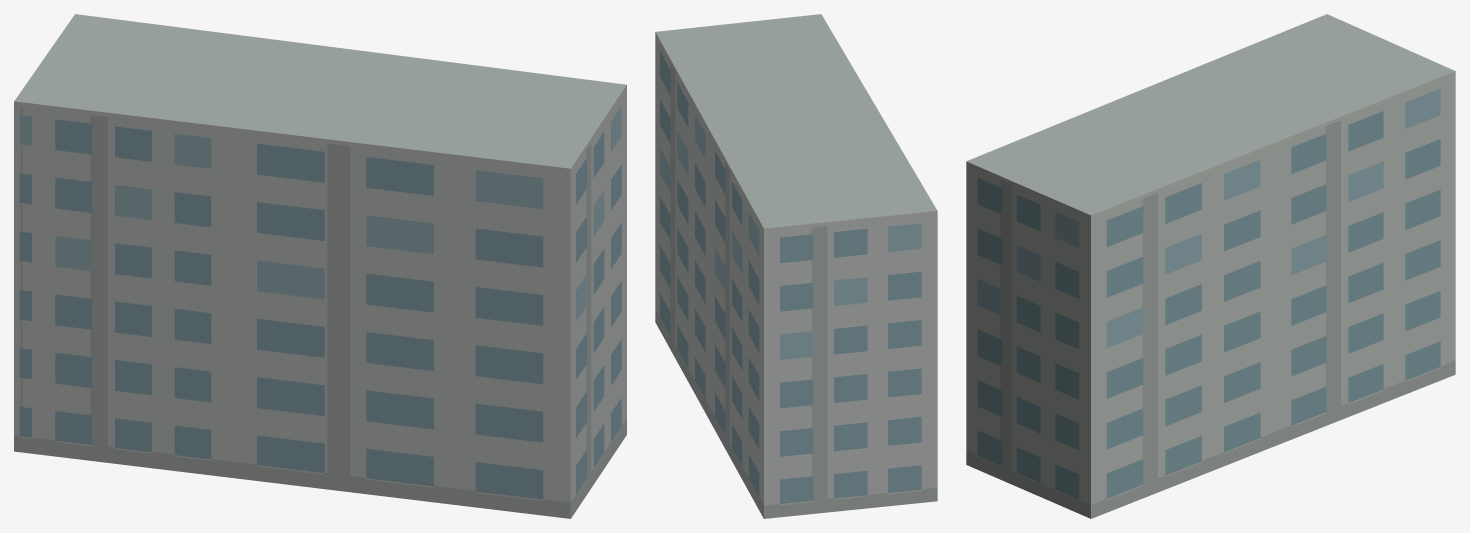
File: survey-upis-32650447.glb
3 renders of one model, left to right at view 1: azimuth 30°, elevation 25°; view 2: azimuth 150°, elevation 25°; view 3: azimuth 270°, elevation 25°, orthographic. The views are drawn at different scales.
Parts seen in each view (by area): view 1: survey-upis-32650447.tmp; view 2: survey-upis-32650447.tmp; view 3: survey-upis-32650447.tmp.
Boxes of the visible parts, x1,y1,x2,y2 form: survey-upis-32650447.tmp: [14, 14, 626, 518]; survey-upis-32650447.tmp: [655, 14, 937, 518]; survey-upis-32650447.tmp: [966, 14, 1455, 518].
Bounding box in the file's own units: 27.49 × 19.3 × 28.22.
